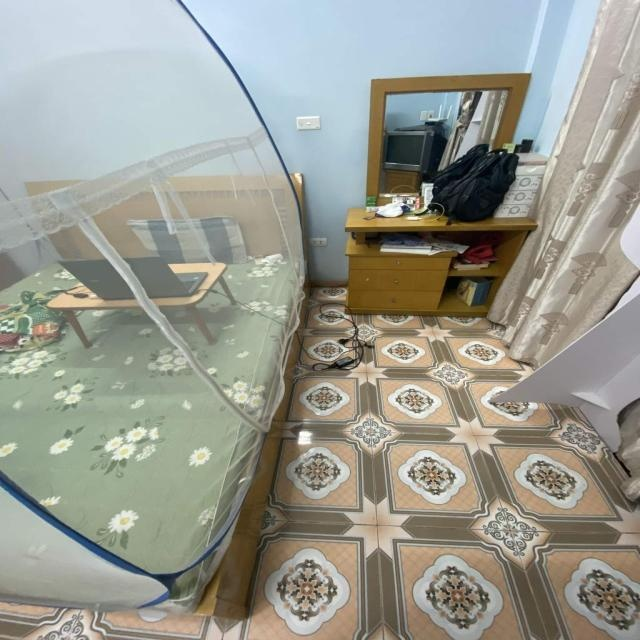outlet: (309, 237, 327, 246)
